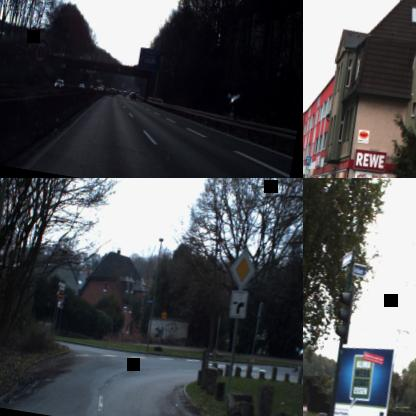priority road: (226, 245, 258, 292)
speed limit 100: (30, 36, 51, 67)
